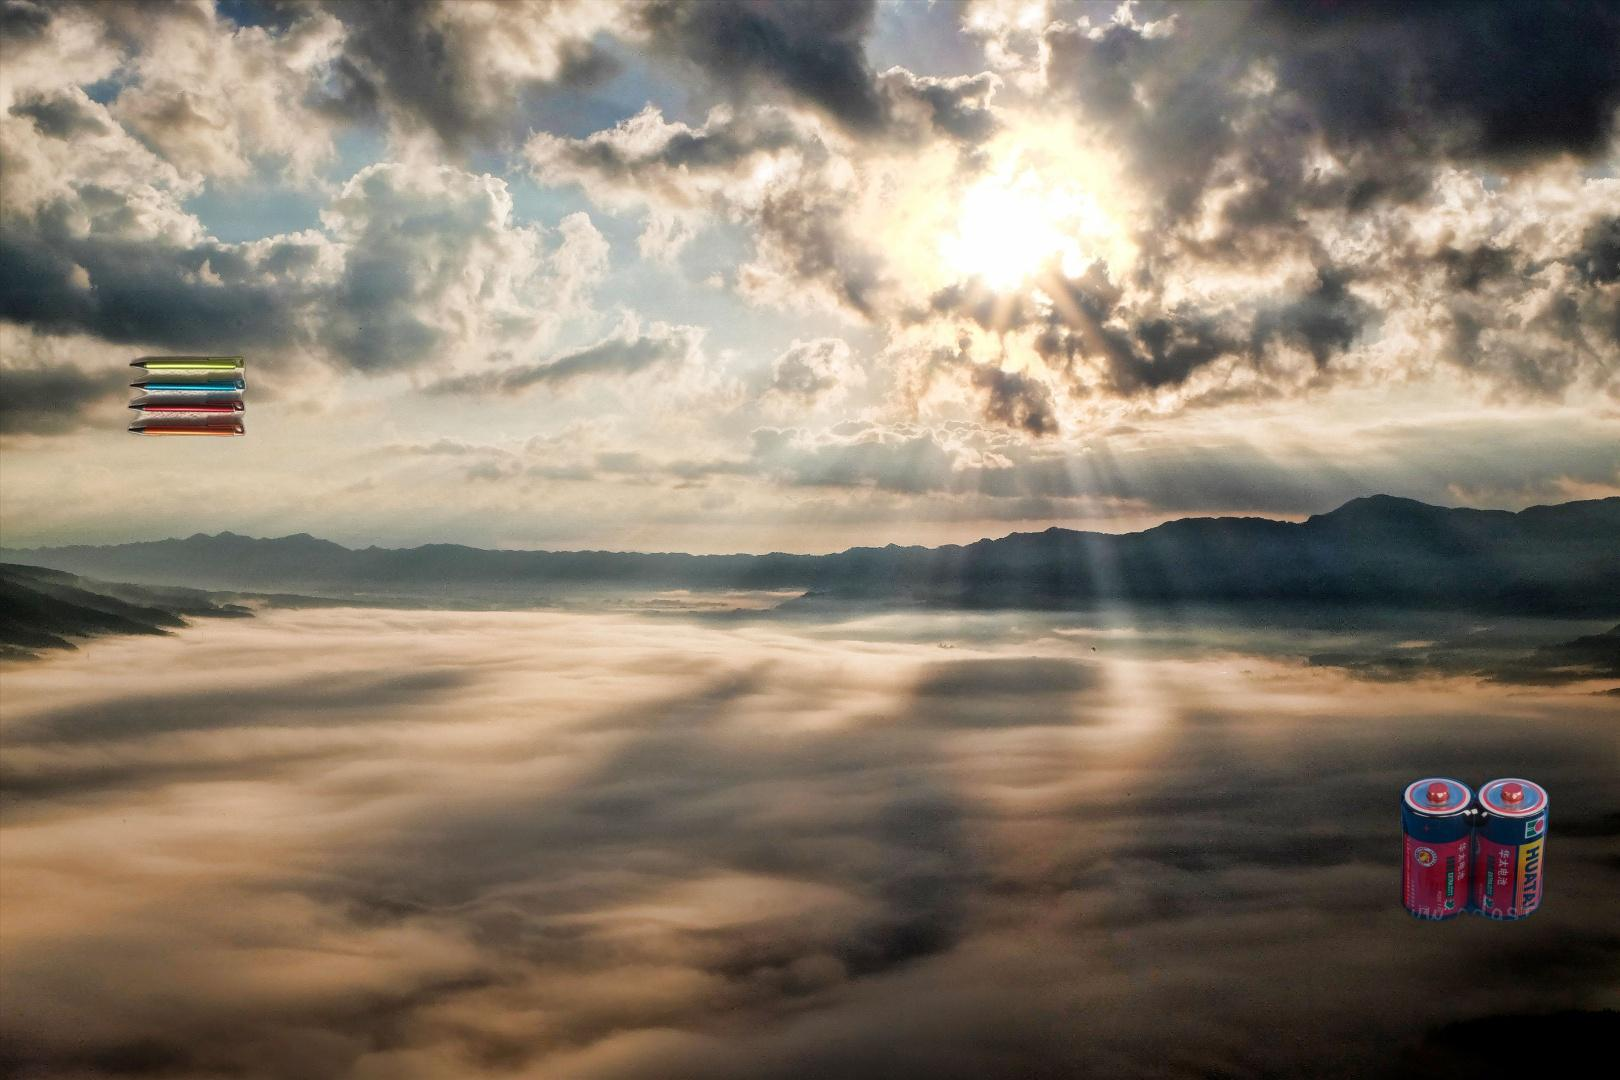battery: (1396, 774, 1554, 925)
penholder: (125, 353, 251, 439)
